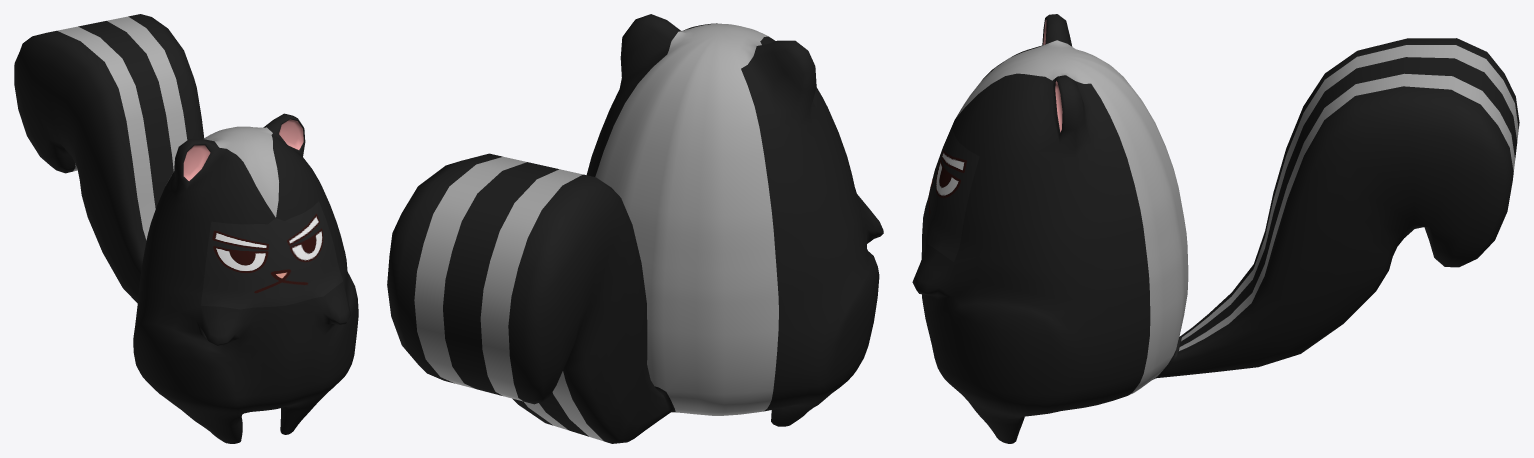
File: Skunk1_4.fbx
3 renders of one model, left to right at view 1: azimuth 30°, elevation 25°; view 2: azimuth 150°, elevation 25°; view 3: azimuth 270°, elevation 25°, orthographic. The views are drawn at different scales.
Visible parts, largest first — view 1: pSphere1; view 2: pSphere1; view 3: pSphere1.
Boxes of the visible parts, x1,y1,x2,y2 form: pSphere1: (14,14,358,443); pSphere1: (387,14,883,443); pSphere1: (912,14,1519,443).
Bounding box in the file's own units: 2.24 × 3.17 × 4.62.
4 materials, 1 textured.
